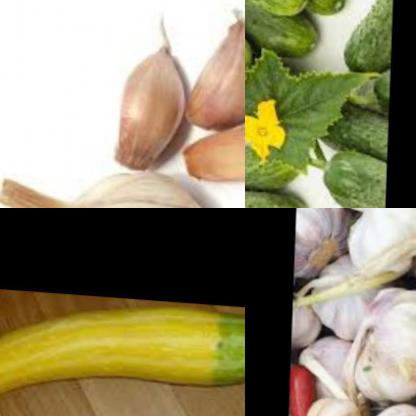cucumber: (299, 123, 388, 208), (295, 75, 391, 150), (245, 0, 338, 56), (331, 0, 393, 83), (245, 25, 285, 114), (245, 130, 304, 189), (245, 161, 311, 208)
garlic: (286, 208, 416, 416), (107, 18, 191, 177), (0, 158, 213, 208), (181, 0, 245, 135), (172, 113, 245, 189)
hot pepper: (288, 349, 320, 416)
vegetable marrow: (0, 279, 245, 416)
